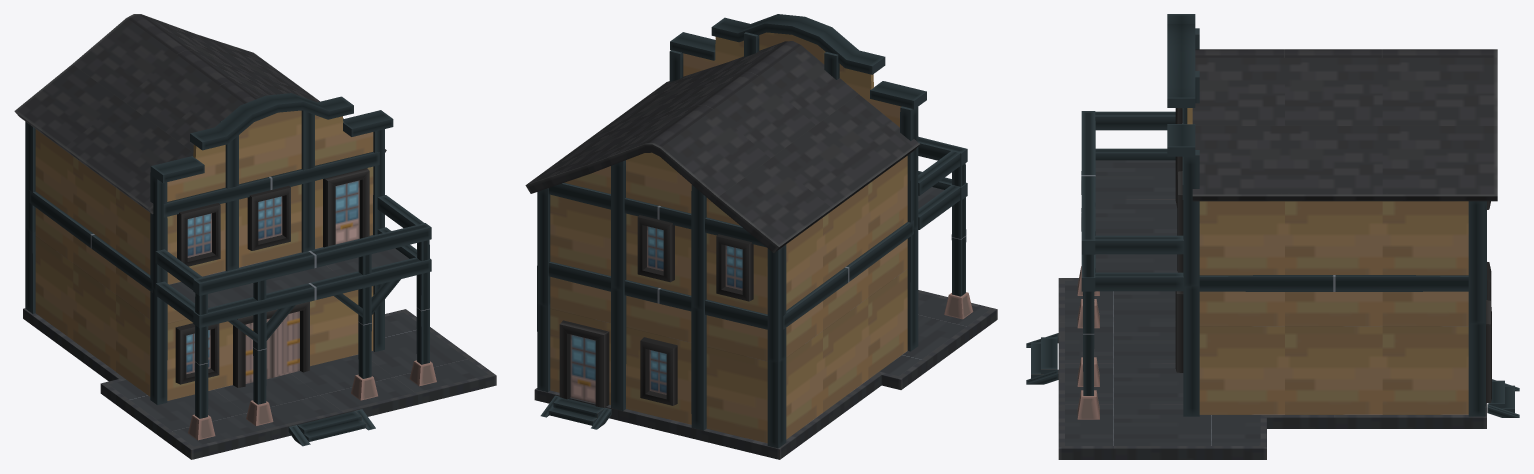
The model's file is house_v3_017.fbx.
The picture shows the model from 3 angles, left to right: view 1: azimuth 30°, elevation 25°; view 2: azimuth 150°, elevation 25°; view 3: azimuth 270°, elevation 25°; orthographic projection. The views are drawn at different scales.
Visible parts, largest first — view 1: house_v3_017; view 2: house_v3_017; view 3: house_v3_017.
Boxes of the visible parts, x1,y1,x2,y2 form: house_v3_017: (14,14,496,459); house_v3_017: (525,14,997,459); house_v3_017: (1026,14,1519,459).
Size of the model in its own units: 826 by 745 by 1009.
